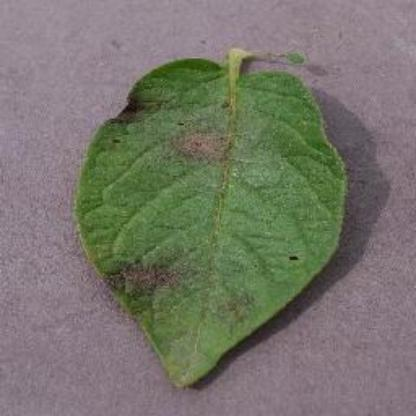Late-Blight: (73, 37, 353, 389)
